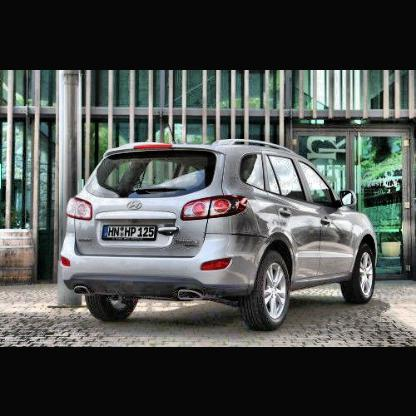Hyundai Santa Fe SUV 2012: (48, 128, 389, 343)
